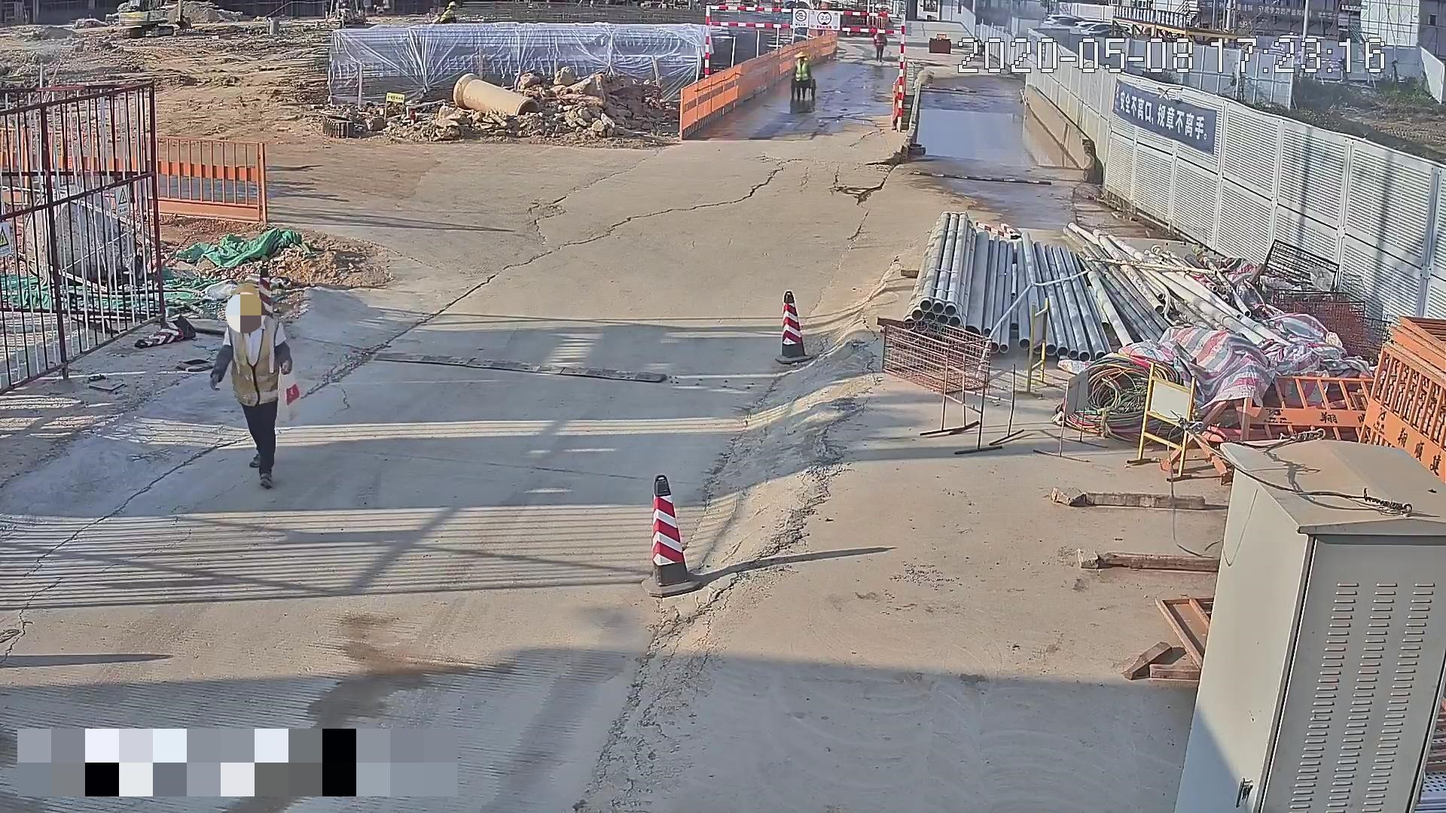hat: (231, 282, 261, 325)
person: (210, 282, 299, 492)
